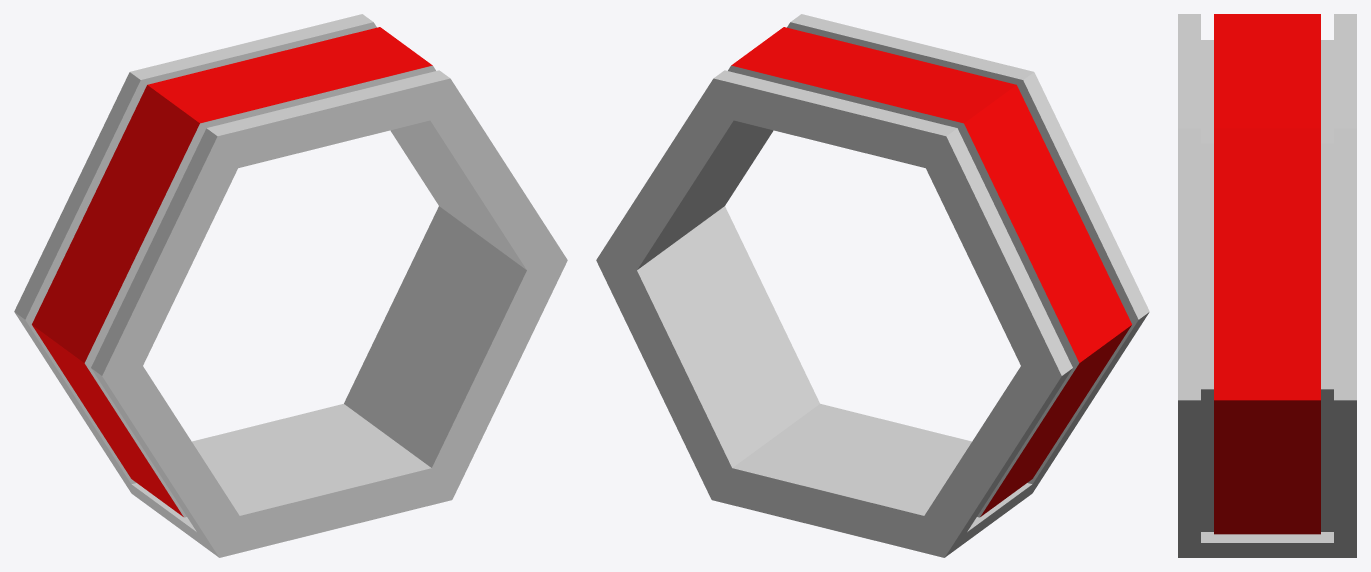
Rendered from bridgesection1.obj.
3 views of the same model, side by side, from view 1: azimuth 30°, elevation 25°; view 2: azimuth 150°, elevation 25°; view 3: azimuth 270°, elevation 25° (orthographic).
Visible parts, largest first — view 1: object1; view 2: object1; view 3: object1.
Boxes of the visible parts, left/top/right/bottom form: object1: left=14, top=14, right=567, bottom=557; object1: left=596, top=14, right=1149, bottom=557; object1: left=1178, top=14, right=1356, bottom=557.
Bounding box in the file's own units: 16.81 × 14.6 × 5.5.
